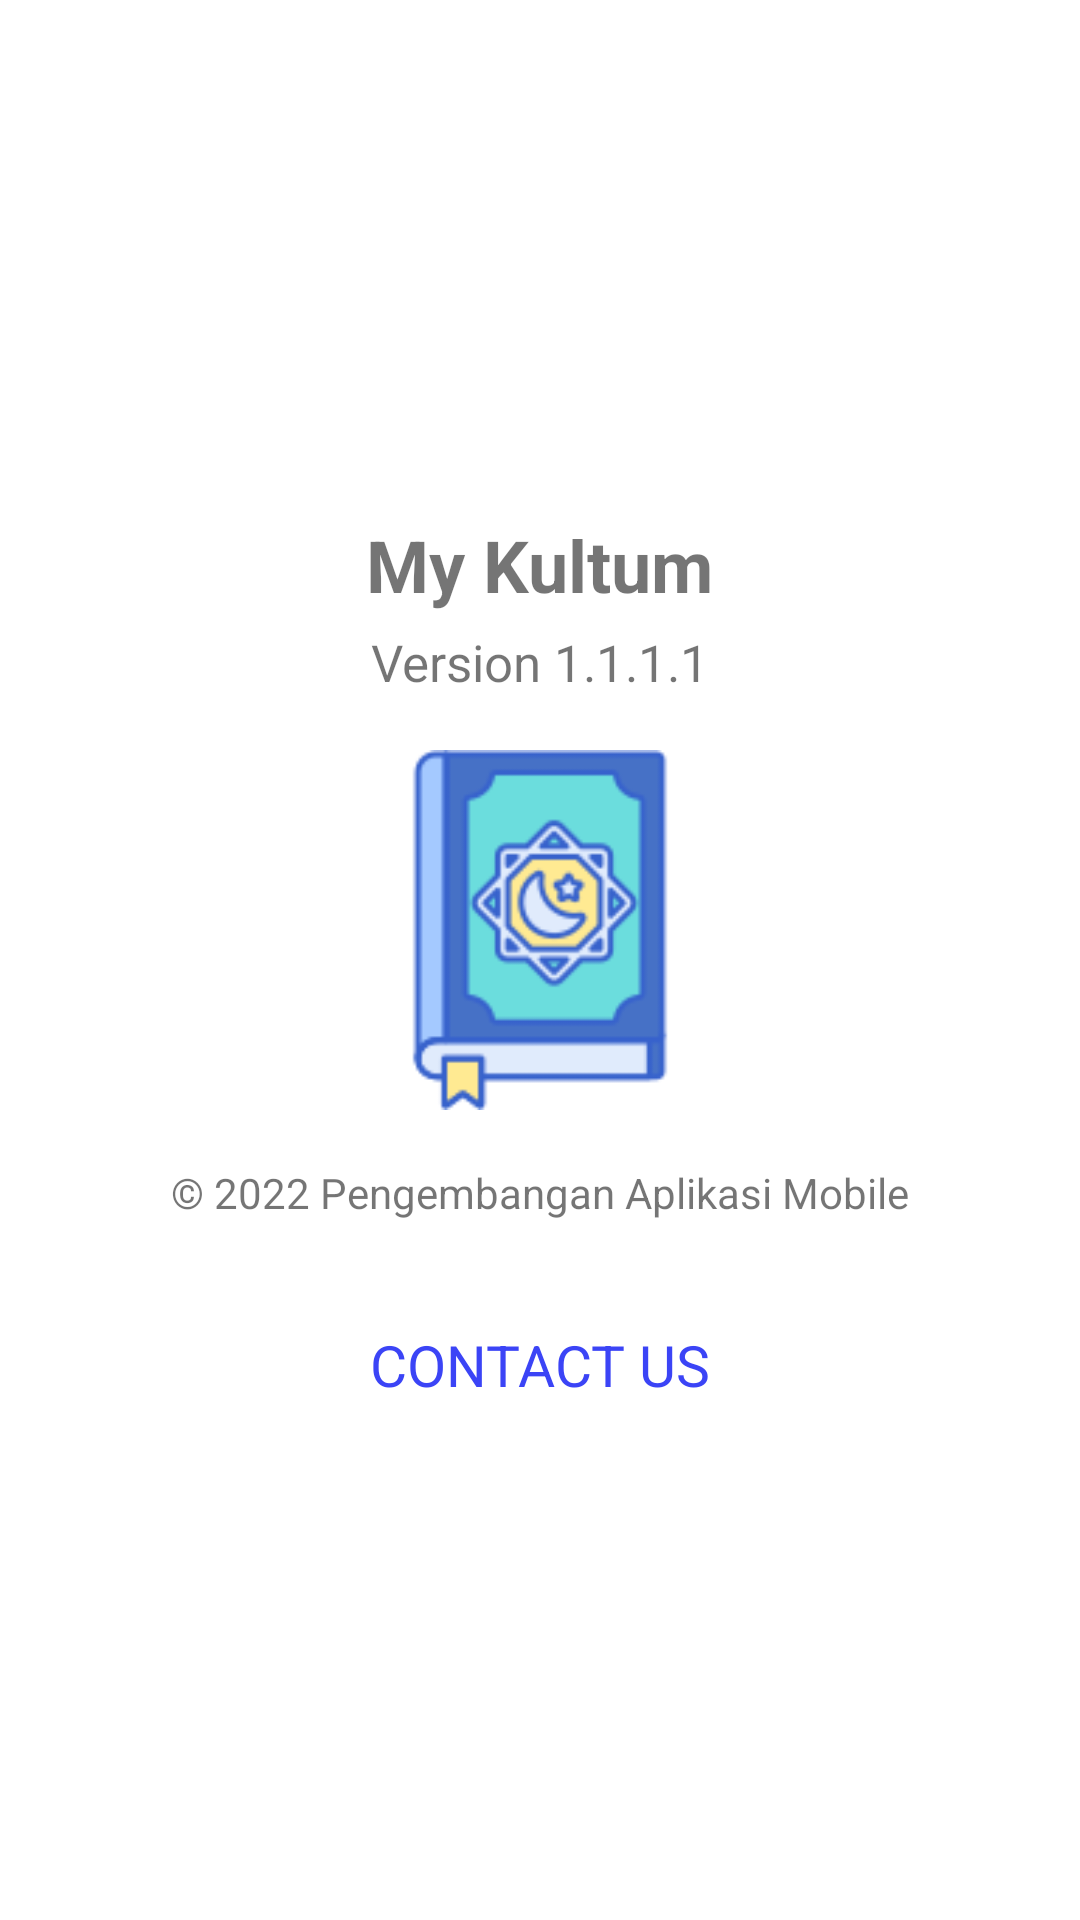

Screen size 1080×1920. Icon name, then its box in pixels as (x1,y1,x2,y2):
quran: (412,750,667,1110)
